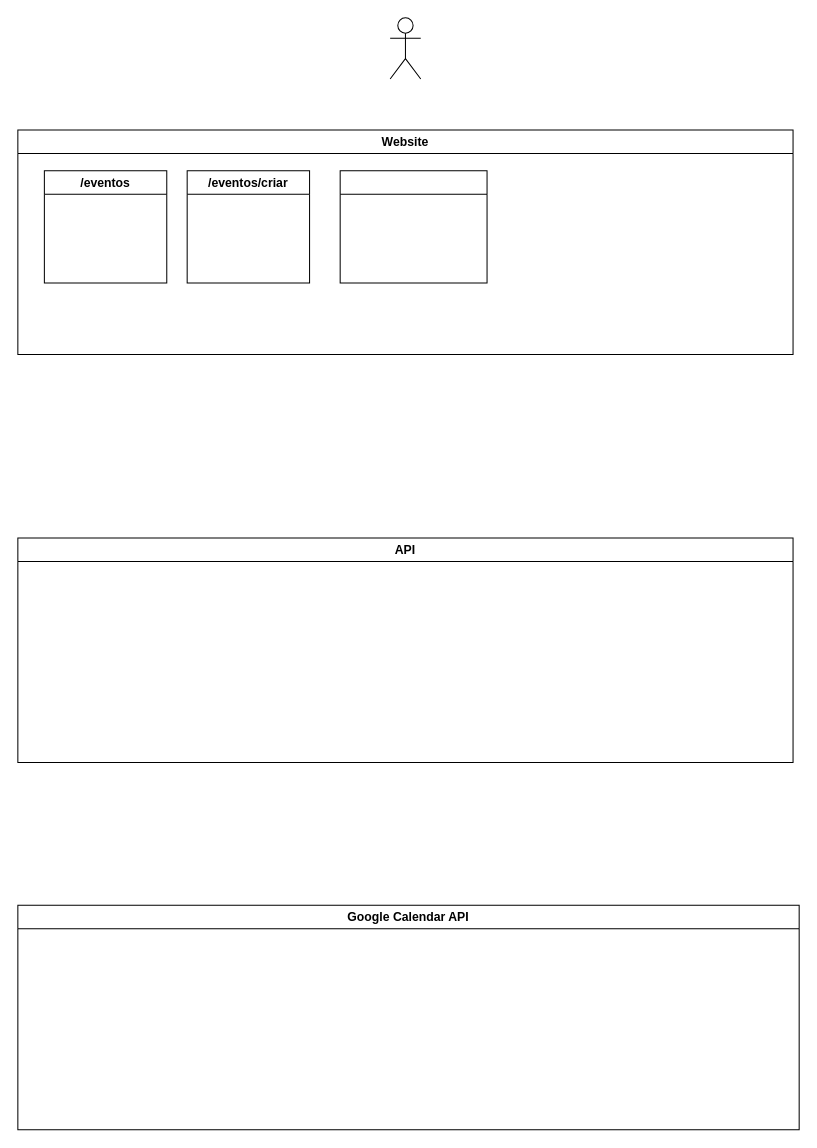
This 817x1148 diagram has some shape labels left out. The box of each missing label's shape, as (x1, y1, x2, y2) in pixels:
/eventos/[idEvento]: (339, 170, 487, 283)
Administrador: (389, 17, 421, 79)
